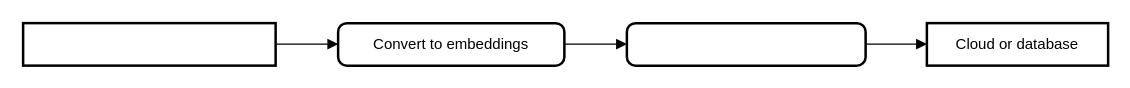
Image size: 1130x88. Some labels were removed from this diagram. The shapes that lost their labels are listed below. From the top down, each one's centre as x and y in pixels, then its label:
At pixel 148 43: "Organizational documents".
At pixel 745 43: "Store in vector database".
